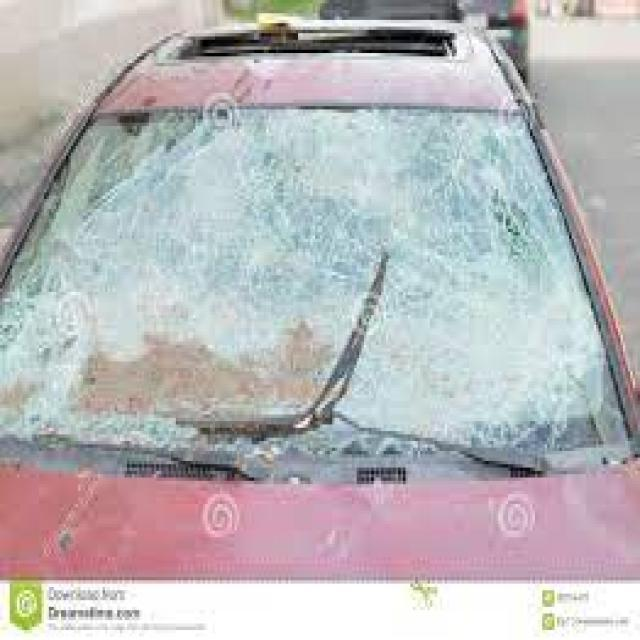damaged-windscreen: (0, 106, 640, 484)
